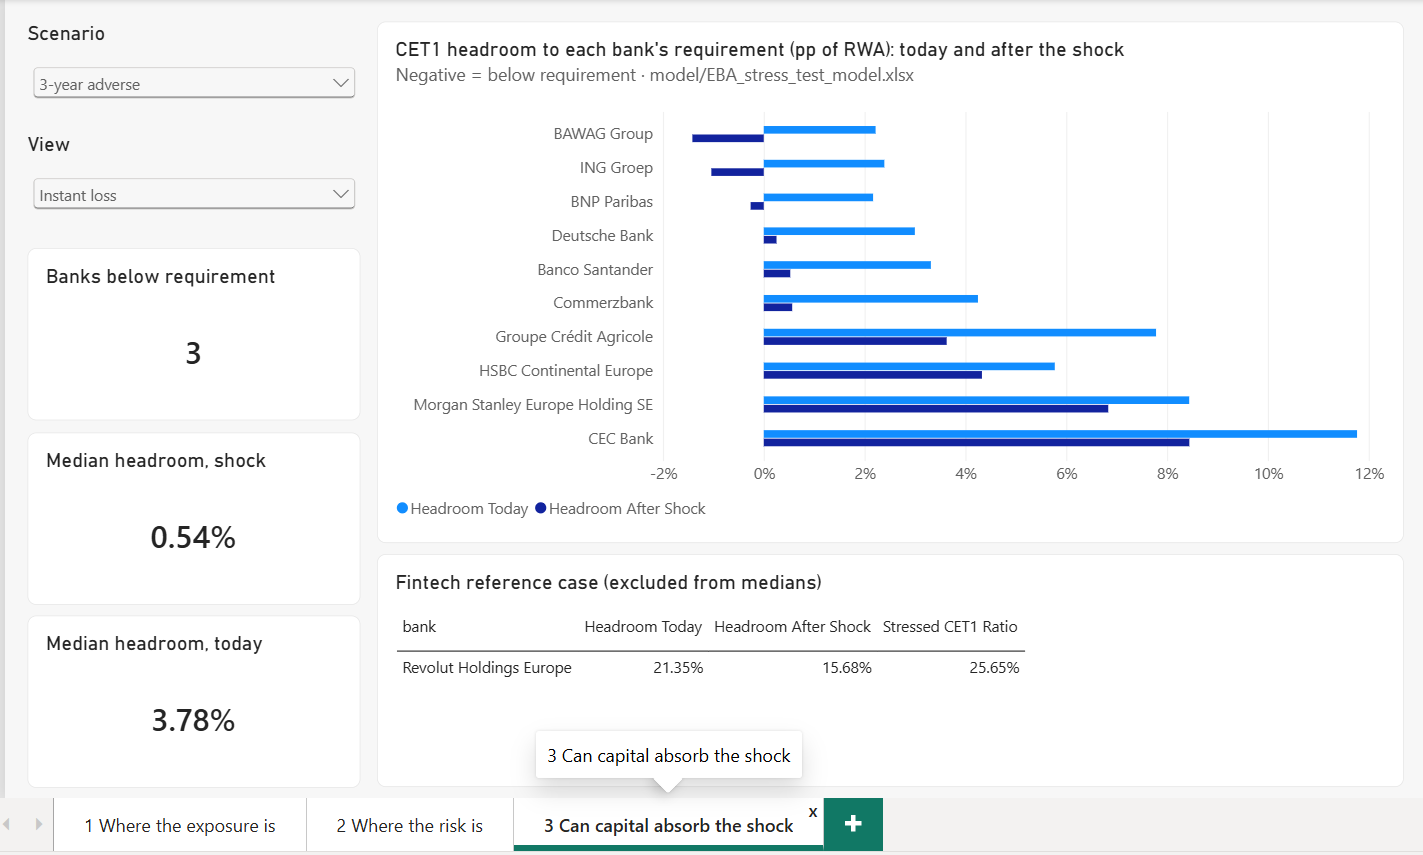

The dashboard page shown, as its layout file describes it:
{"tool":"powerbi","page":{"name":"3 Can capital absorb the shock","canvas":[1280,720],"ordinal":2},"visuals":[{"type":"slicer","title":"Scenario","fields":{"Values":["stress_results.scenario"]},"box":[20,20,300,90],"z":1},{"type":"slicer","title":"View","fields":{"Values":["stress_results.view"]},"box":[20,120,300,90],"z":2},{"type":"clusteredBarChart","title":"CET1 headroom to each bank''s requirement (pp of RWA): today and after the shock","fields":{"Category":["stress_results.bank"],"Y":["stress_results.Headroom Today","stress_results.Headroom After Shock"]},"box":[335,20,925,470],"z":3},{"type":"card","title":"Banks below requirement","fields":{"Values":["stress_results.Core Banks Below Requirement"]},"box":[20,225,300,155],"z":4},{"type":"card","title":"Median headroom, shock","fields":{"Values":["stress_results.Median Headroom Core"]},"box":[20,390,300,155],"z":5},{"type":"card","title":"Median headroom, today","fields":{"Values":["stress_results.Median Headroom Today Core"]},"box":[20,555,300,155],"z":6},{"type":"tableEx","title":"Fintech reference case (excluded from medians)","fields":{"Values":["stress_results.bank","stress_results.Headroom Today","stress_results.Headroom After Shock","stress_results.Stressed CET1 Ratio"]},"box":[335,500,925,210],"z":7}]}

Visuals, with their boxes on the page's 1280x720 design canvas (x1, y1, x2, y2). These are canvas units, not pixel positions in the 1423x855 screenshot, which may show the page scaled, cropped or inside an application window:
"Scenario" slicer: bbox(20, 20, 320, 110)
"View" slicer: bbox(20, 120, 320, 210)
"CET1 headroom to each bank''s requirement (pp of RWA): today and after the shock" clusteredBarChart: bbox(335, 20, 1260, 490)
"Banks below requirement" card: bbox(20, 225, 320, 380)
"Median headroom, shock" card: bbox(20, 390, 320, 545)
"Median headroom, today" card: bbox(20, 555, 320, 710)
"Fintech reference case (excluded from medians)" tableEx: bbox(335, 500, 1260, 710)
